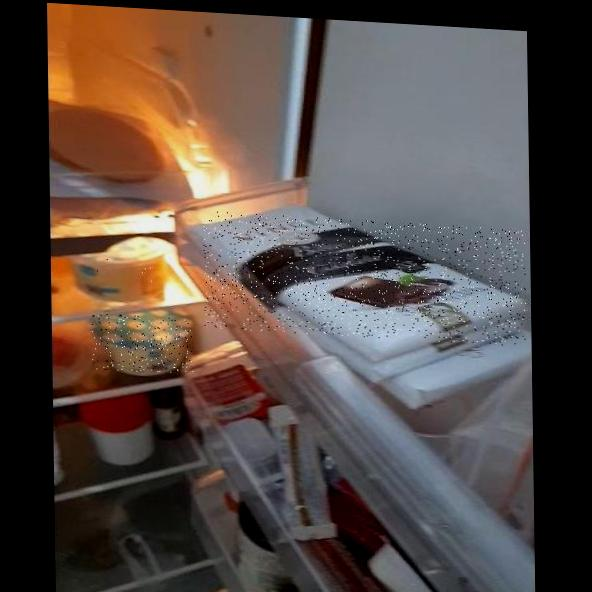chocolate: (203, 211, 527, 347)
yoghurt: (91, 313, 194, 375), (73, 254, 166, 302)
